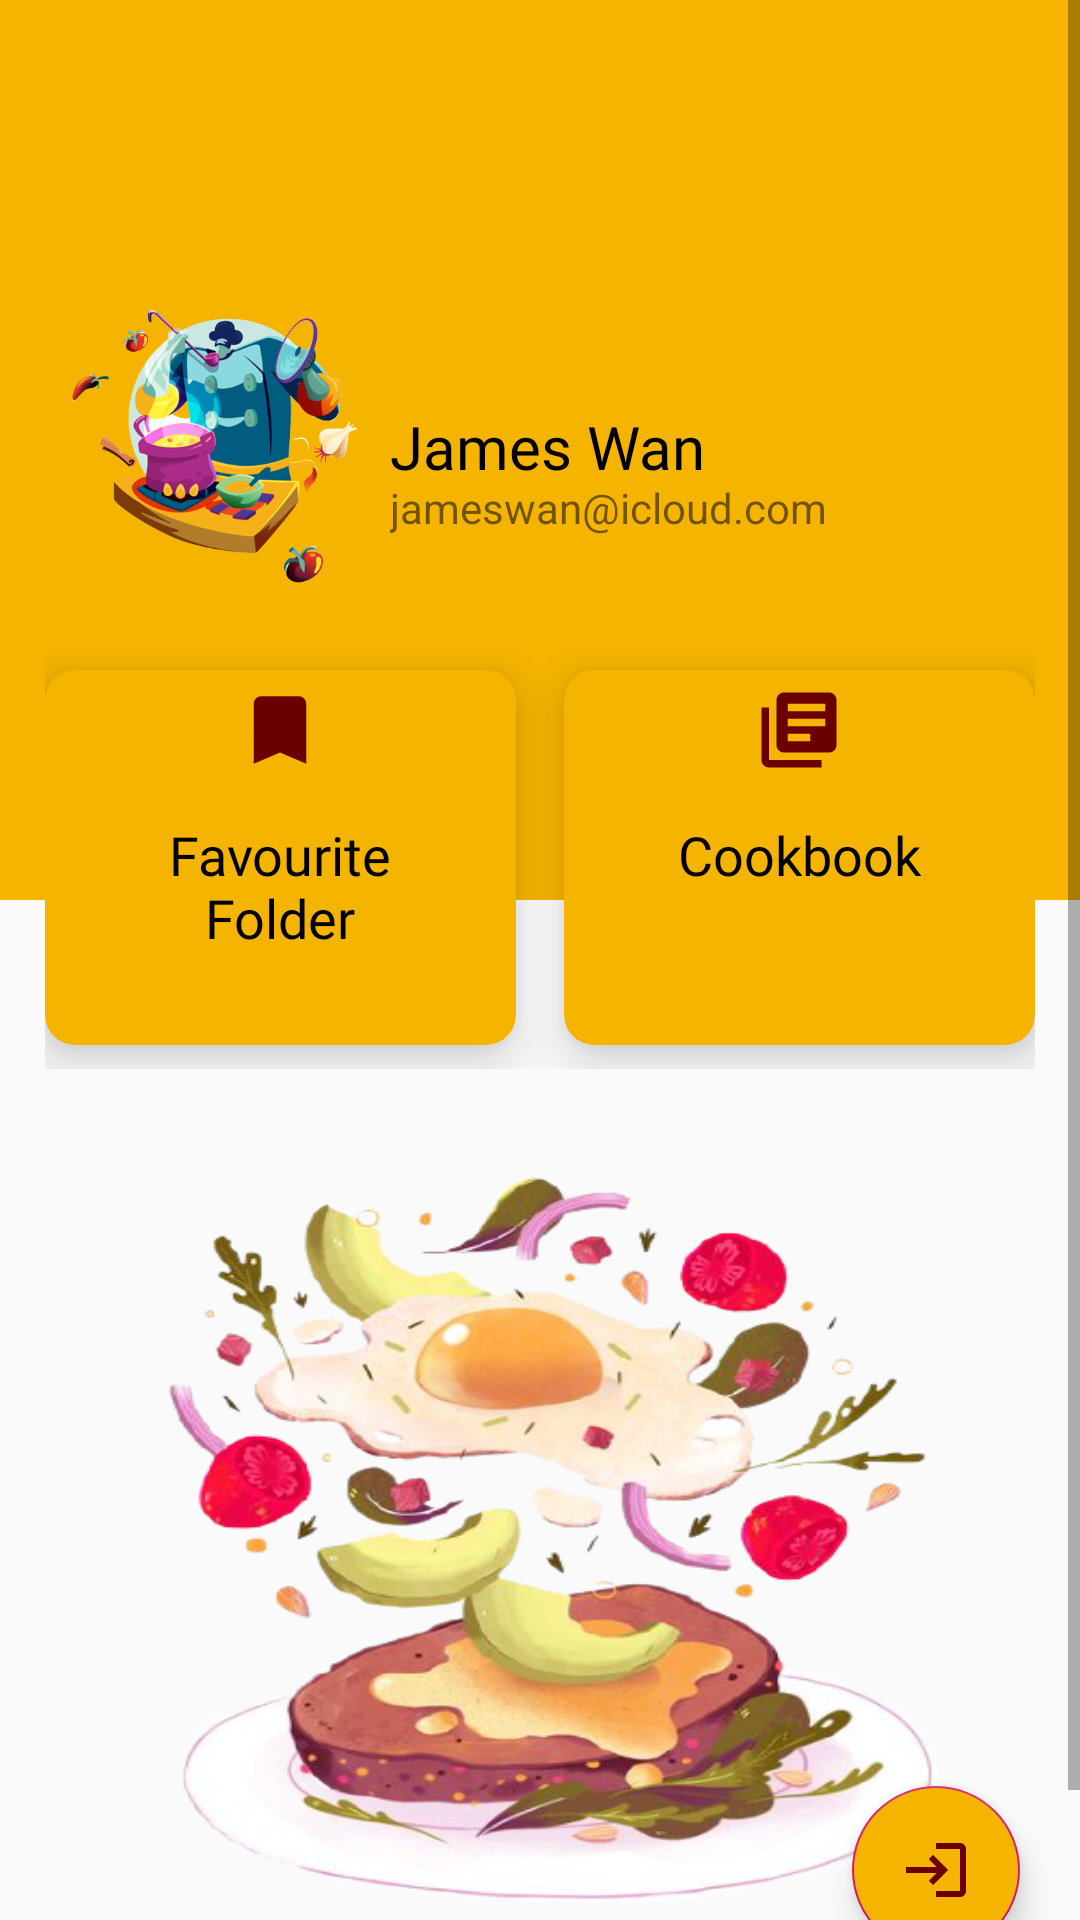

Named icons in this screenshot (1080*1920) and their bounding boxes, (x1, y1, x2, y2):
bookmark: (253, 696, 307, 764)
mon chef: (71, 310, 357, 583)
